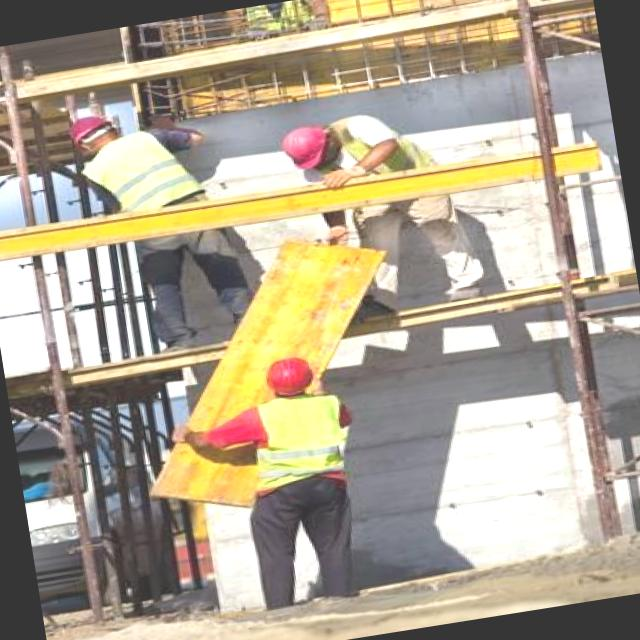helmet: (257, 347, 322, 401)
vest: (74, 127, 198, 220), (254, 392, 358, 491)
